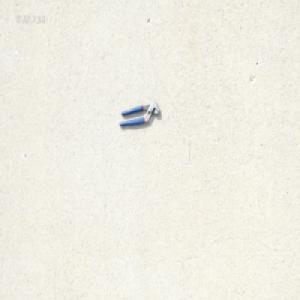Pliers: (118, 100, 160, 127)
